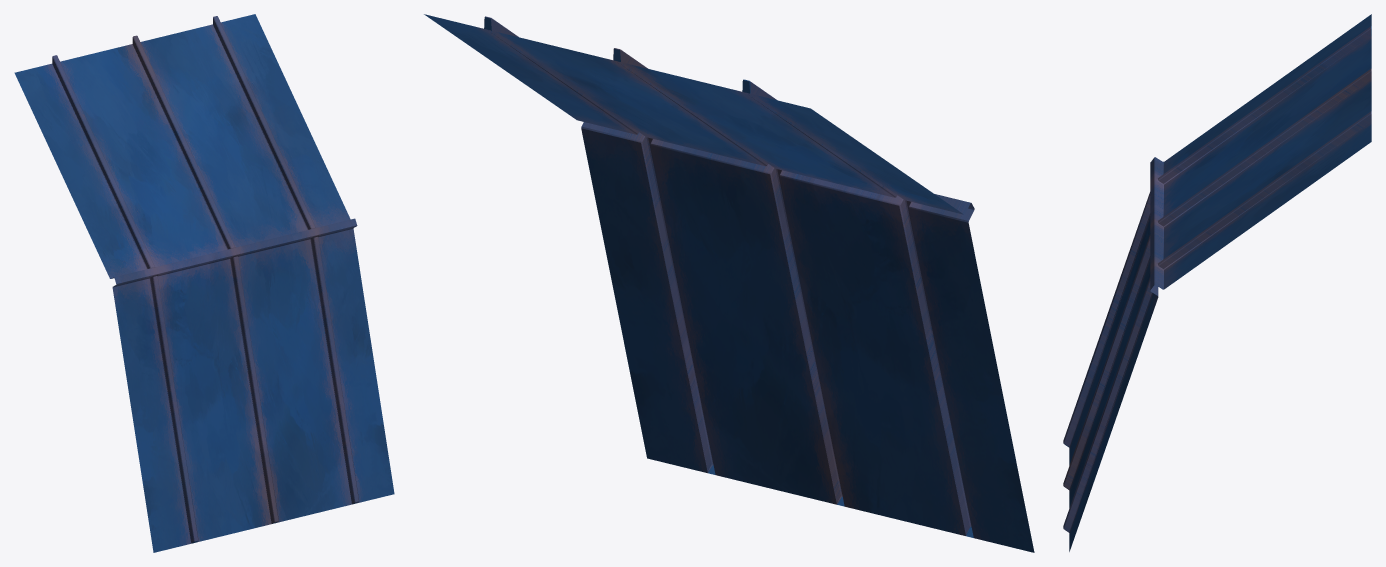
Rendered from The roof is sloping.fbx.
3 views of the same model, side by side, from view 1: azimuth 30°, elevation 25°; view 2: azimuth 150°, elevation 25°; view 3: azimuth 270°, elevation 25° (orthographic). The views are drawn at different scales.
Parts seen in each view (by area): view 1: The roof is sloping; view 2: The roof is sloping; view 3: The roof is sloping.
Part boxes in pixels (box(x1,y1,x2,y2)): The roof is sloping: box(14, 14, 394, 552); The roof is sloping: box(424, 14, 1034, 552); The roof is sloping: box(1063, 14, 1371, 551).
Size of the model in its own units: 200 by 306 by 204.
